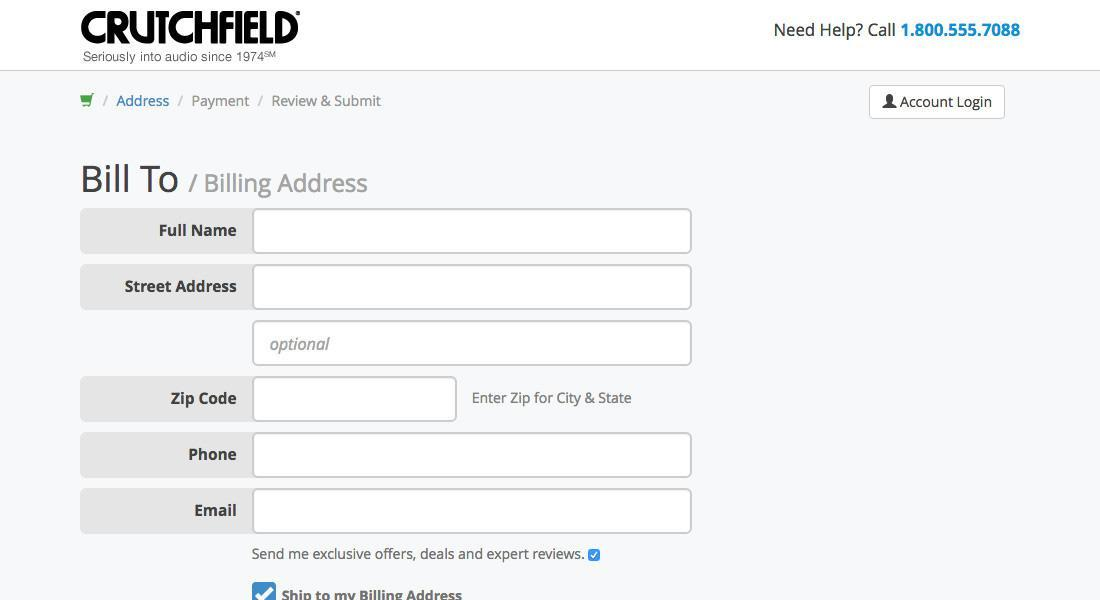button: (873, 86, 1008, 121)
checkbox: (254, 582, 278, 600)
input: (255, 263, 693, 309), (253, 320, 694, 365), (254, 211, 693, 256), (256, 488, 693, 532), (256, 434, 693, 477), (256, 380, 457, 423)
label: (118, 274, 243, 301), (284, 584, 474, 600), (152, 217, 242, 247), (182, 436, 251, 470), (168, 385, 243, 412), (186, 498, 242, 527)
